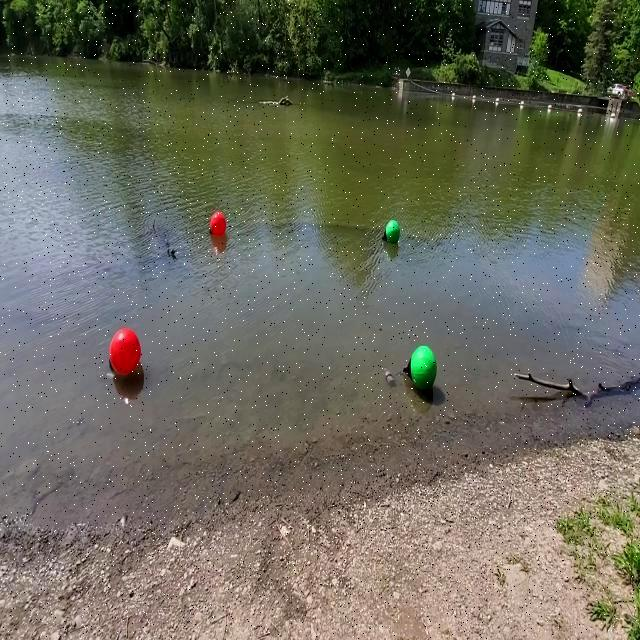buoy: (108, 328, 142, 376), (404, 344, 437, 390), (382, 218, 400, 244), (210, 210, 227, 236)
